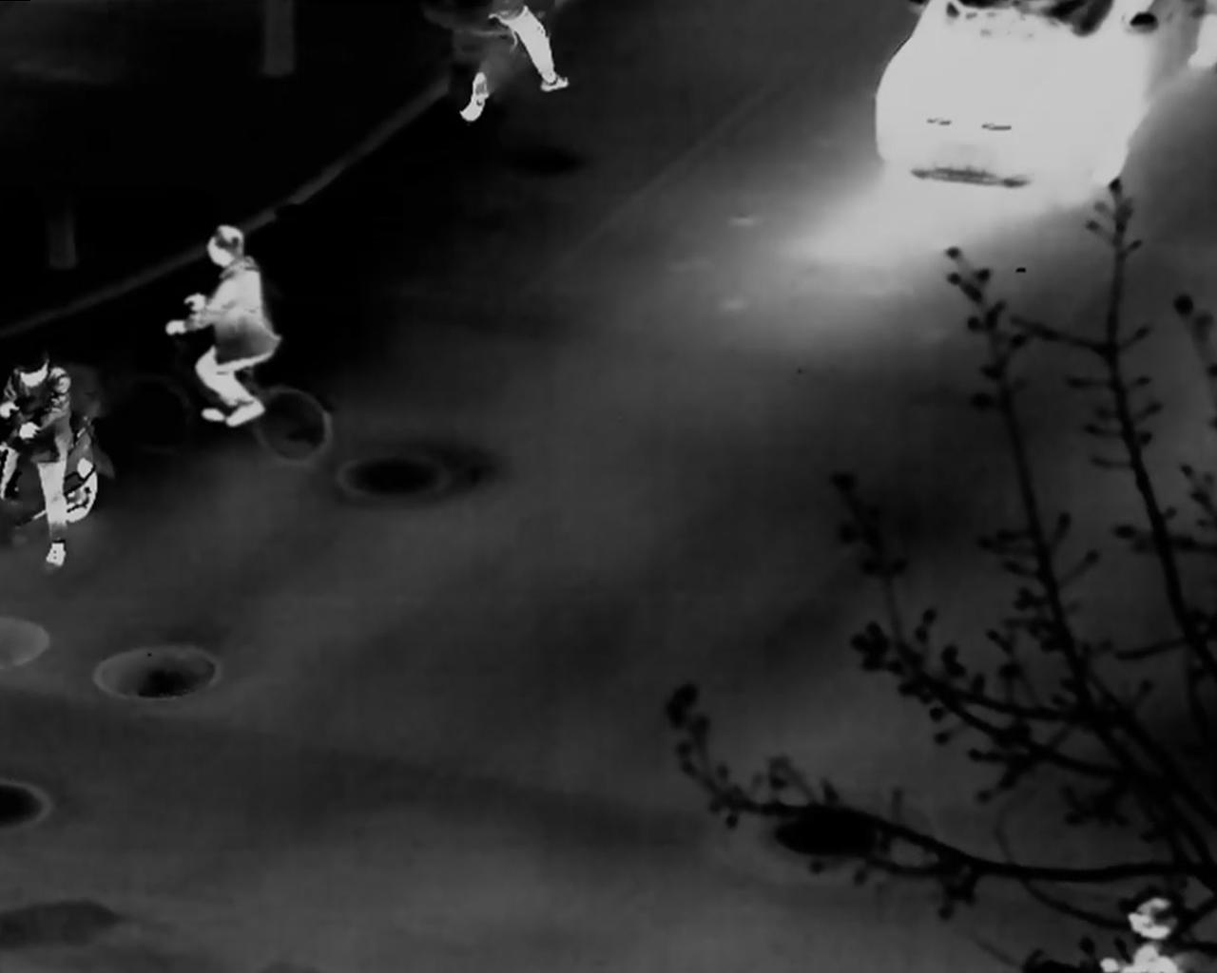person: (163, 221, 280, 428)
